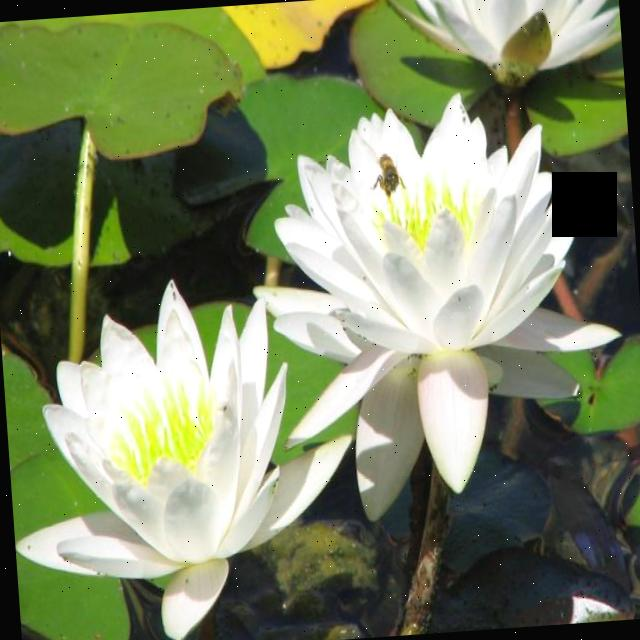water-lily: (270, 87, 587, 506), (15, 276, 332, 608)
